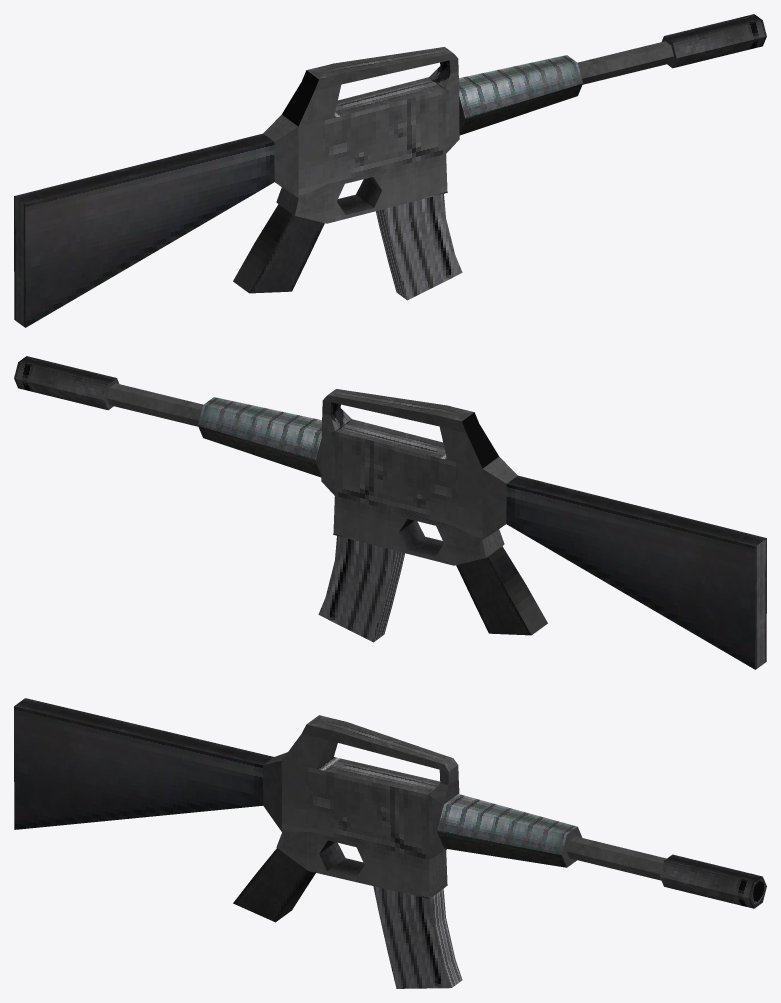
3 views of the same model, one above another, from view 1: azimuth 30°, elevation 25°; view 2: azimuth 150°, elevation 25°; view 3: azimuth 330°, elevation 25° (orthographic).
Parts seen in each view (by area): view 1: Cube; view 2: Cube; view 3: Cube.
Boxes of the visible parts, left/top/right/bottom form: Cube: left=14, top=14, right=766, bottom=327; Cube: left=14, top=356, right=766, bottom=669; Cube: left=14, top=698, right=766, bottom=988.
Size of the model in its own units: 4.8 by 1.51 by 0.3194.
Materials: 1 (1 with a texture image).
